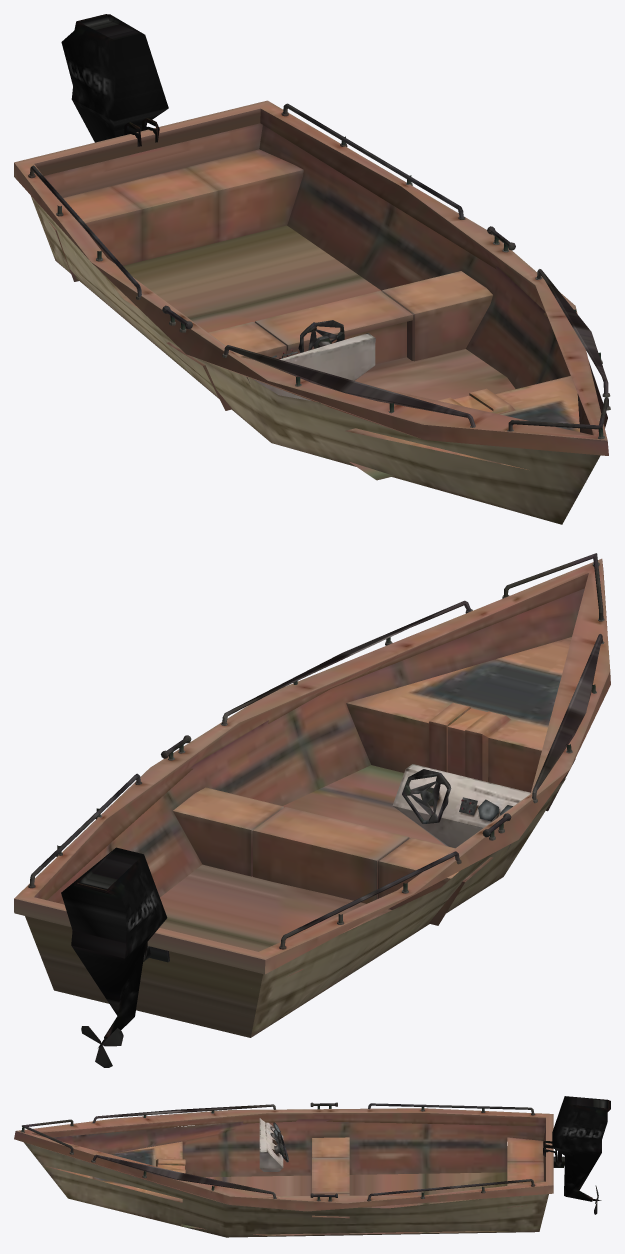
The model's file is Boat1.glb.
3 views of the same model, one above another, from view 1: azimuth 30°, elevation 25°; view 2: azimuth 150°, elevation 25°; view 3: azimuth 270°, elevation 25° (orthographic). The views are drawn at different scales.
Parts seen in each view (by area): view 1: 3d66-Editable_Poly-20237667-001; view 2: 3d66-Editable_Poly-20237667-001; view 3: 3d66-Editable_Poly-20237667-001.
Part boxes in pixels (x1,y1,x2,y2): 3d66-Editable_Poly-20237667-001: (14,14,610,524); 3d66-Editable_Poly-20237667-001: (14,553,610,1067); 3d66-Editable_Poly-20237667-001: (14,1096,610,1237).
Bounding box in the file's own units: 0.3749 × 0.2112 × 0.9939.
Materials: 1 (1 with a texture image).
